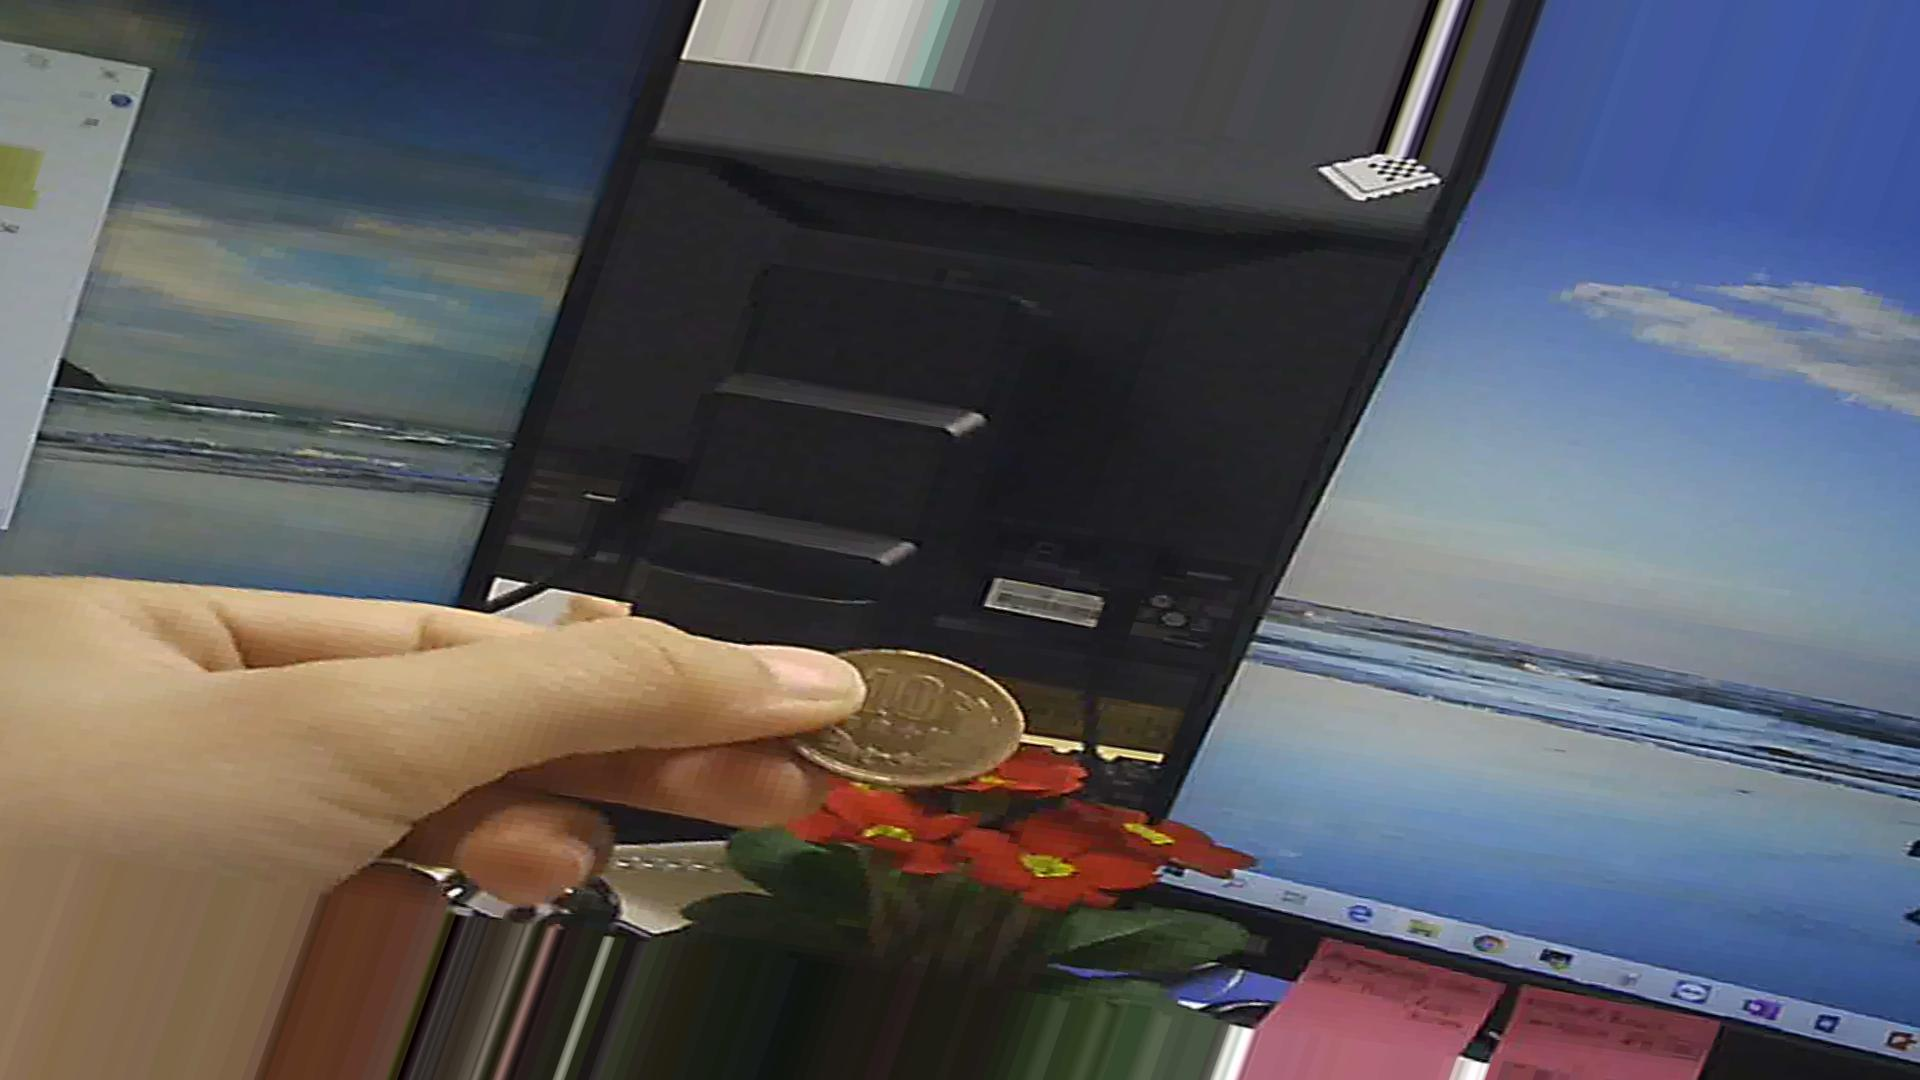10 Yen: (769, 642, 1015, 789)
